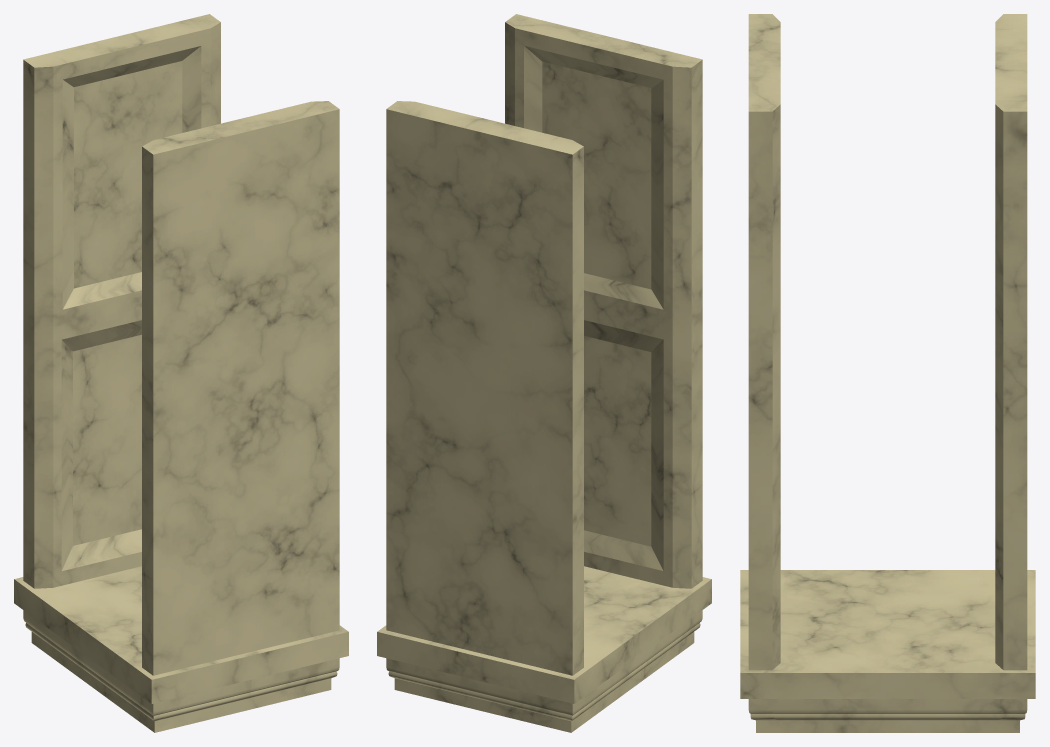
The model's file is ThroneRoom_WindowFrame.fbx.
3 renders of one model, left to right at view 1: azimuth 30°, elevation 25°; view 2: azimuth 150°, elevation 25°; view 3: azimuth 270°, elevation 25°, orthographic. The views are drawn at different scales.
Visible parts, largest first — view 1: ThroneRoom_WindowFrame; view 2: ThroneRoom_WindowFrame; view 3: ThroneRoom_WindowFrame.
Boxes of the visible parts, <box> form: ThroneRoom_WindowFrame: <box>14,14,348,732</box>; ThroneRoom_WindowFrame: <box>377,14,711,732</box>; ThroneRoom_WindowFrame: <box>740,14,1035,732</box>.
Bounding box in the file's own units: 2.33 × 6.59 × 2.82.
Materials: 1 (1 with a texture image).
